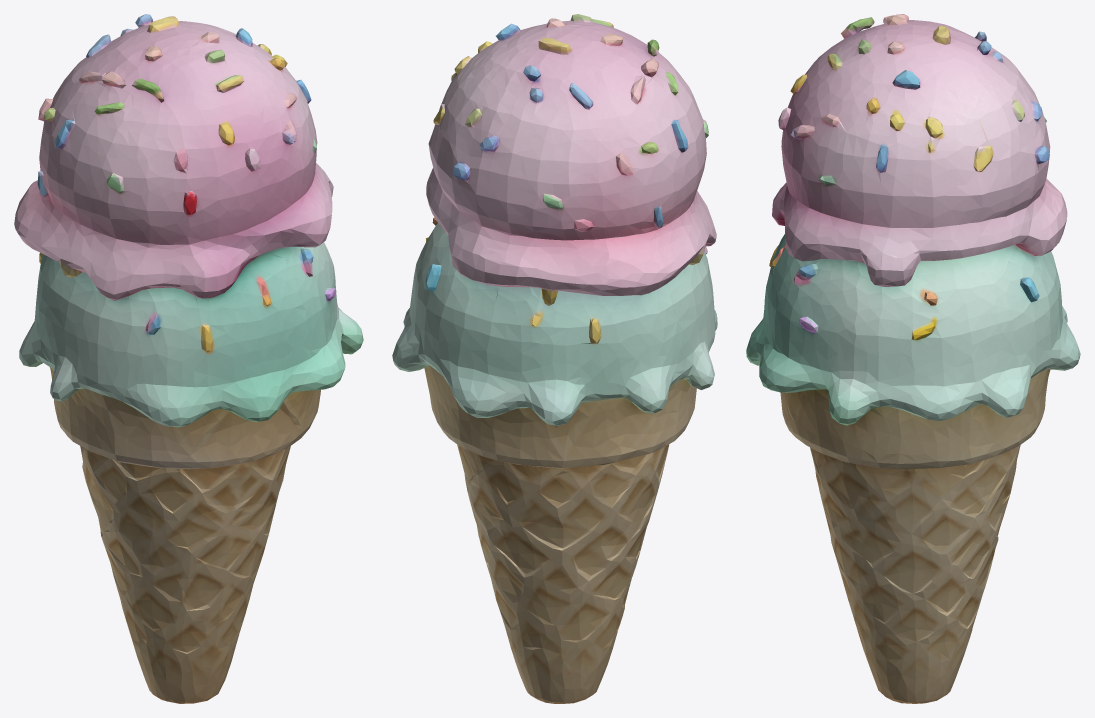
File: prop_icecream.glb
The picture shows the model from 3 angles, left to right: view 1: azimuth 30°, elevation 25°; view 2: azimuth 150°, elevation 25°; view 3: azimuth 270°, elevation 25°; orthographic projection.
Visible parts, largest first — view 1: world; view 2: world; view 3: world.
Boxes of the visible parts, x1,y1,x2,y2 form: world: [14, 14, 363, 703]; world: [392, 14, 717, 703]; world: [746, 14, 1080, 703].
Bounding box in the file's own units: 0.4503 × 1 × 0.4611.
Materials: 1 (1 with a texture image).
